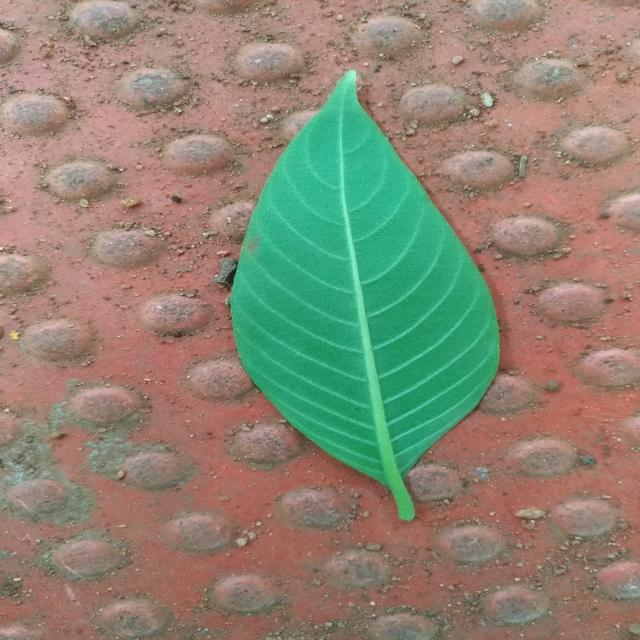malabar_nut: (231, 70, 500, 520)
